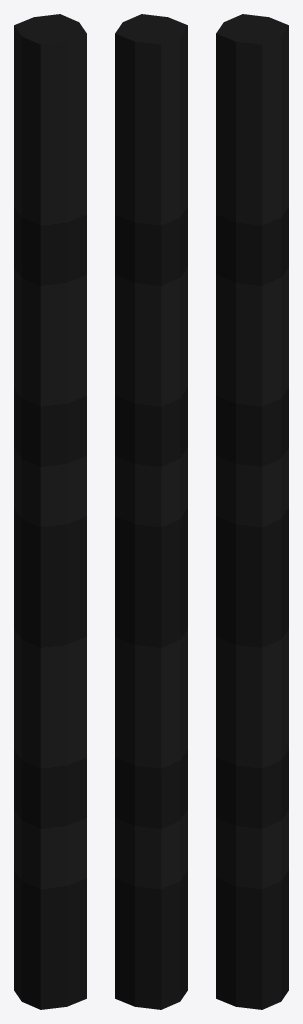
Rendered from screwdriver_tip.fbx.
3 views of the same model, side by side, from view 1: azimuth 30°, elevation 25°; view 2: azimuth 150°, elevation 25°; view 3: azimuth 330°, elevation 25° (orthographic).
Visible parts, largest first — view 1: Tip; view 2: Tip; view 3: Tip.
Part boxes in pixels (left/top/right/bottom): Tip: left=14, top=14, right=86, bottom=1009; Tip: left=115, top=14, right=187, bottom=1009; Tip: left=216, top=14, right=288, bottom=1009.
Bounding box in the file's own units: 6.25 × 100 × 6.25.
Materials: 1 (1 with a texture image).
